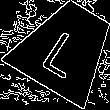L_NE: (39, 19, 94, 78)
